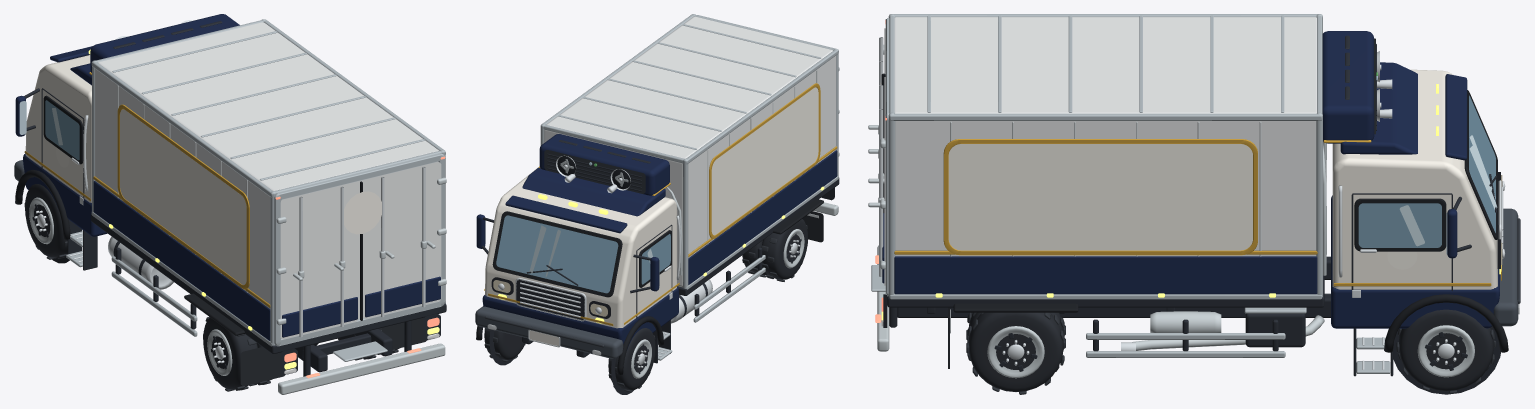
File: FleetTruck_Reefer.fbx
3 views of the same model, side by side, from view 1: azimuth 30°, elevation 25°; view 2: azimuth 150°, elevation 25°; view 3: azimuth 270°, elevation 25° (orthographic). The views are drawn at different scales.
Parts seen in each view (by area): view 1: Body.001; view 2: Body.001; view 3: Body.001.
Boxes of the visible parts, left/top/right/bottom form: Body.001: left=14, top=14, right=446, bottom=394; Body.001: left=475, top=14, right=839, bottom=394; Body.001: left=868, top=14, right=1520, bottom=394.
Size of the model in its own units: 2.98 by 3.2 by 6.53.
